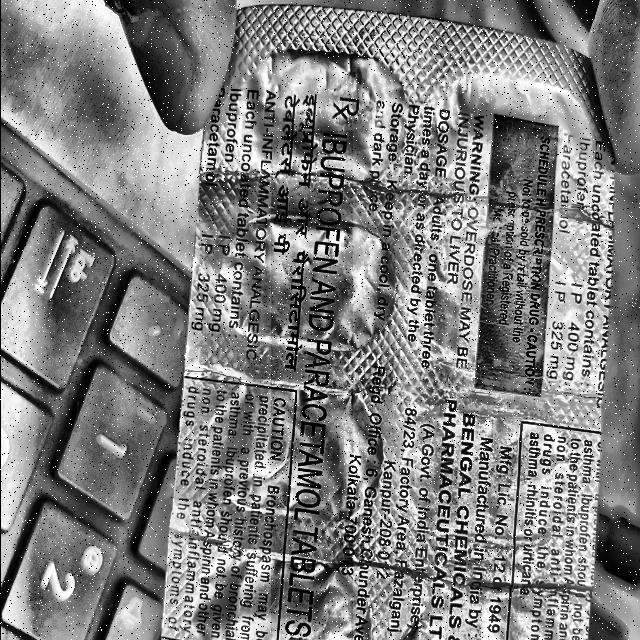IBUPROFEN AND PARACETAMOL TABLETS: (270, 131, 351, 640)
